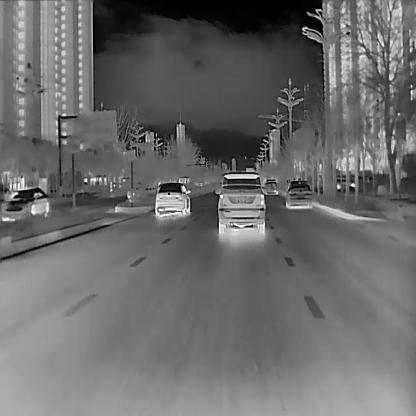car: (214, 172, 264, 234), (0, 187, 50, 221), (153, 181, 192, 215), (284, 180, 312, 208), (263, 178, 278, 195)
